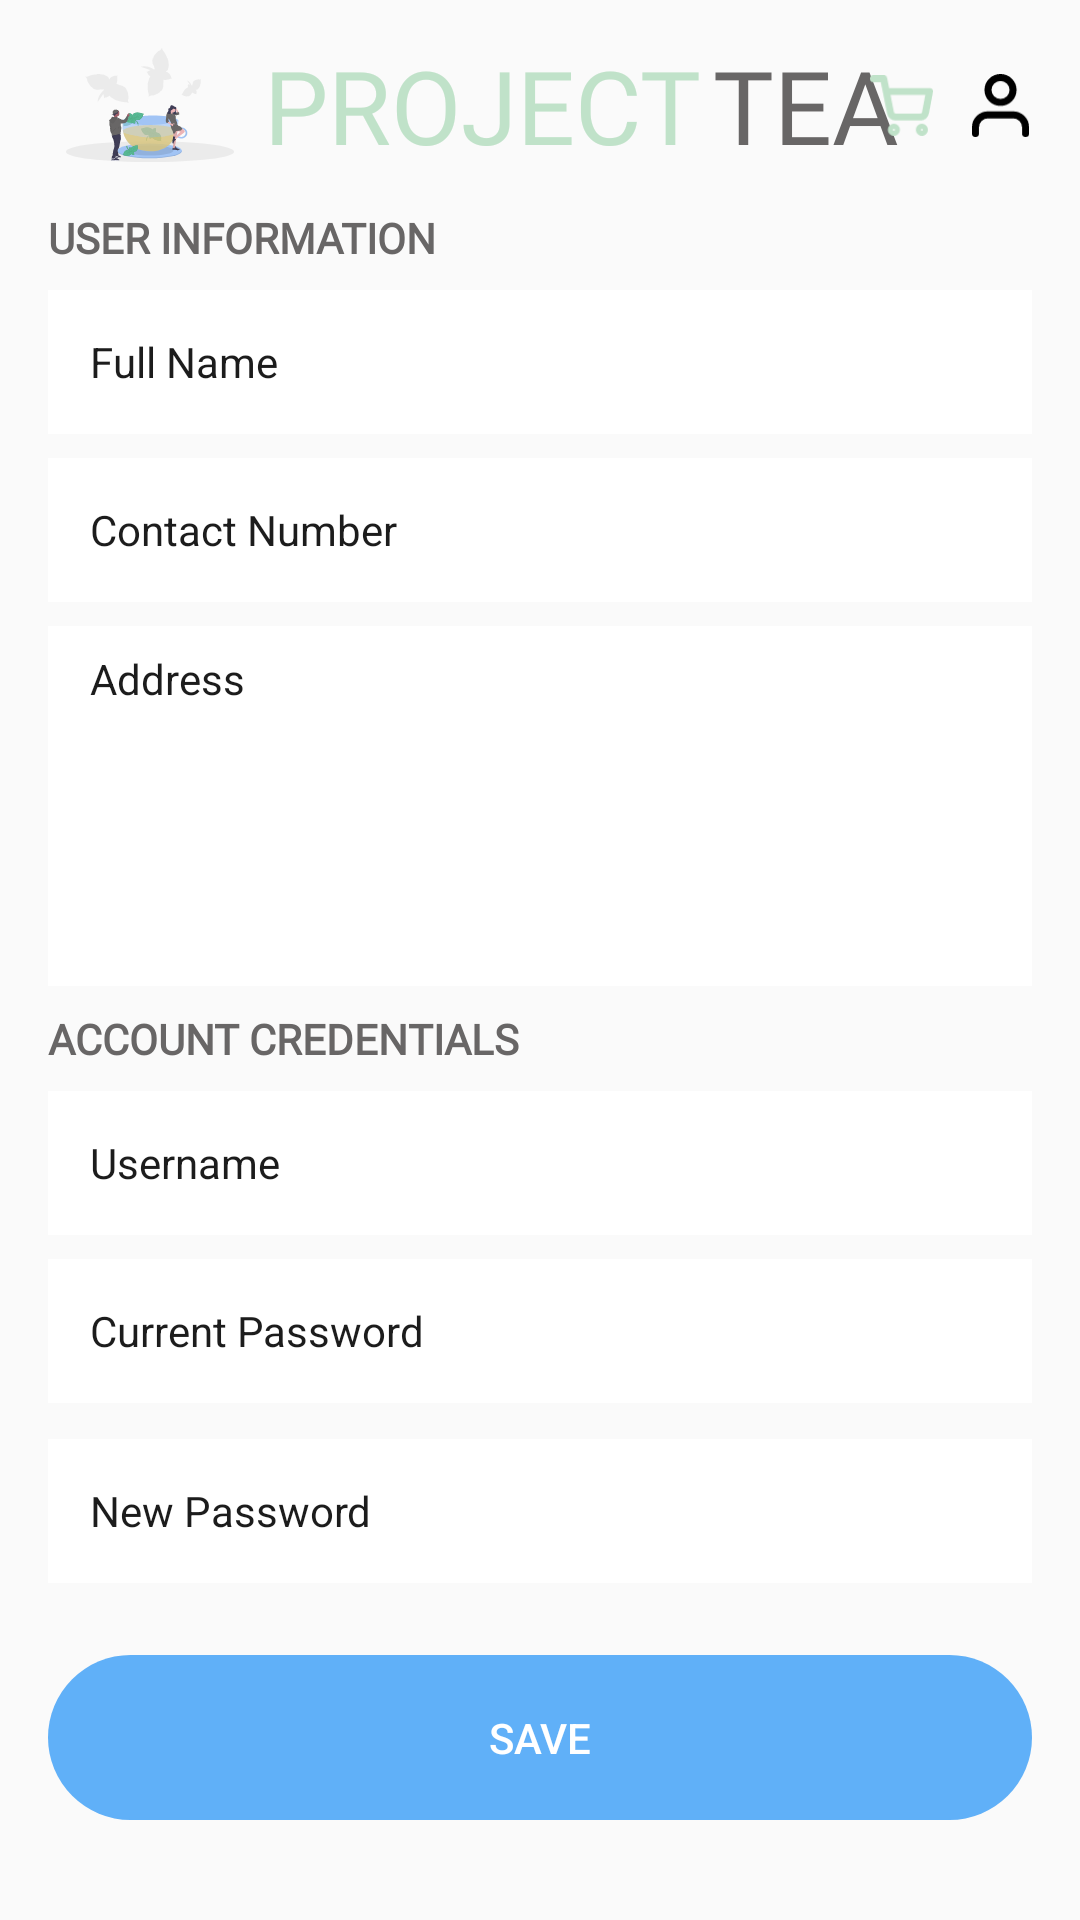

Named icons in this screenshot (1080x1920) and their centers, [x,y]:
user: [1000,105]
